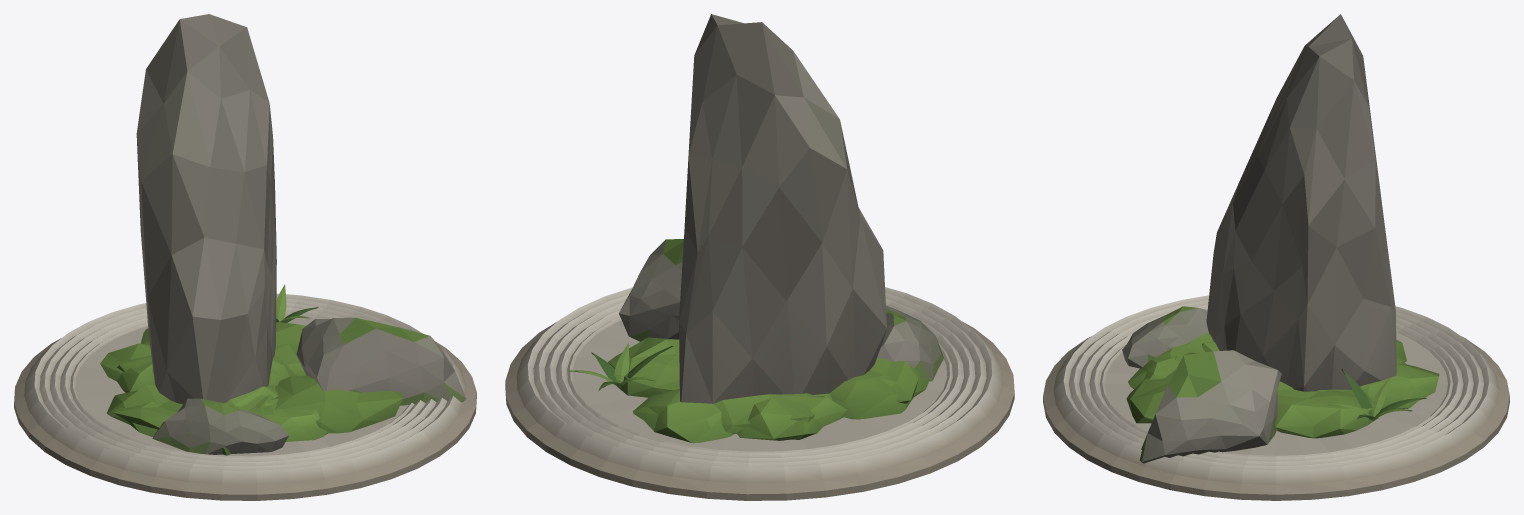
The model's file is garden-stone.glb.
3 renders of one model, left to right at view 1: azimuth 30°, elevation 25°; view 2: azimuth 150°, elevation 25°; view 3: azimuth 270°, elevation 25°, orthographic. The views are drawn at different scales.
Parts seen in each view (by area): view 1: garden_stone; view 2: garden_stone; view 3: garden_stone.
Boxes of the visible parts, left/top/right/bottom form: garden_stone: left=14, top=14, right=476, bottom=500; garden_stone: left=505, top=14, right=1014, bottom=500; garden_stone: left=1043, top=14, right=1509, bottom=500.
Size of the model in its own units: 1.36 by 1.2 by 1.36.
